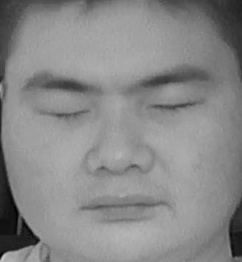blink: (151, 87, 198, 119), (39, 96, 86, 126)
mouth: (75, 183, 165, 226)
